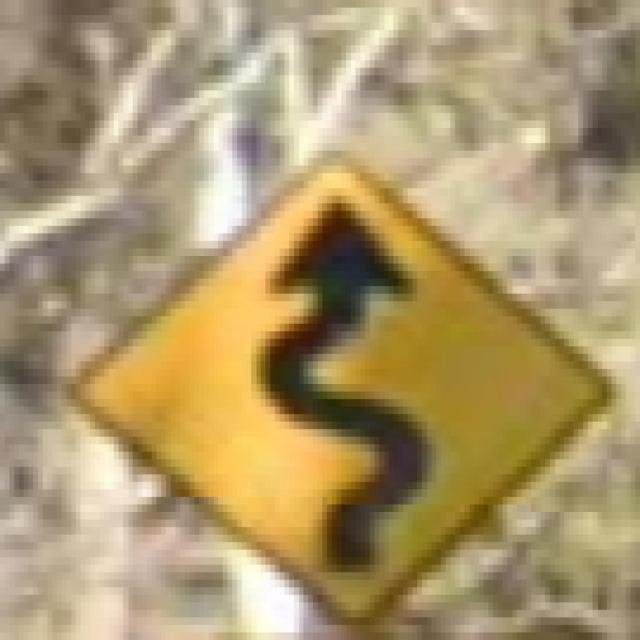Banyak Tikungan Pertama Kanan: (52, 128, 616, 633)
